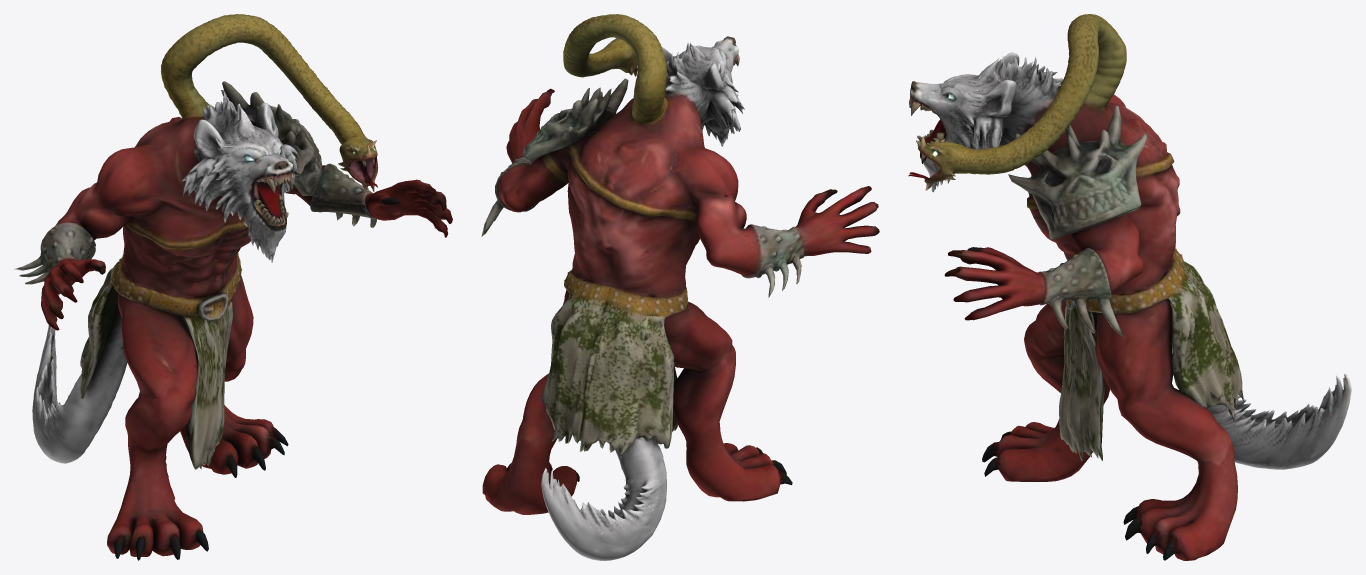
The model's file is MZ4250 - Molydeus.glb.
3 views of the same model, side by side, from view 1: azimuth 30°, elevation 25°; view 2: azimuth 150°, elevation 25°; view 3: azimuth 270°, elevation 25° (orthographic). The views are drawn at different scales.
Visible parts, largest first — view 1: Body.001; view 2: Body.001; view 3: Body.001.
Boxes of the visible parts, left/top/right/bottom form: Body.001: left=14, top=14, right=452, bottom=560; Body.001: left=481, top=14, right=879, bottom=560; Body.001: left=908, top=14, right=1351, bottom=560.
Bounding box in the file's own units: 2.42 × 2.89 × 2.35.
1 material, 1 textured.
